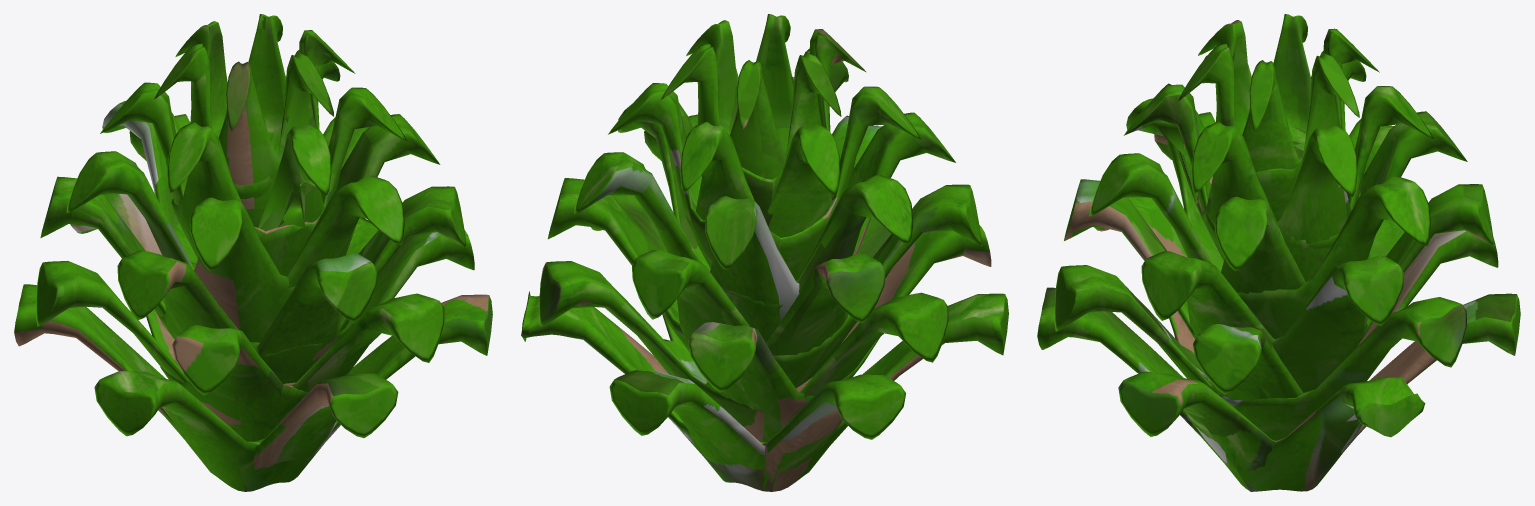
Rendered from PineTextrued.fbx.
3 renders of one model, left to right at view 1: azimuth 30°, elevation 25°; view 2: azimuth 150°, elevation 25°; view 3: azimuth 270°, elevation 25°, orthographic.
Visible parts, largest first — view 1: pCylinder55; view 2: pCylinder55; view 3: pCylinder55.
Part boxes in pixels (x1=…): pCylinder55: x1=14, y1=14, x2=492, y2=491; pCylinder55: x1=521, y1=14, x2=1008, y2=491; pCylinder55: x1=1037, y1=14, x2=1520, y2=491.
Size of the model in its own units: 7.32 by 7.72 by 7.7.
